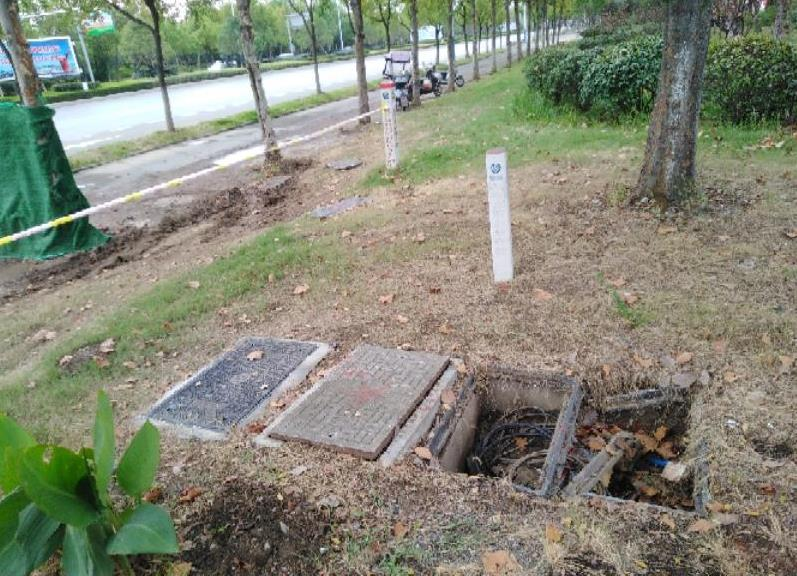well: (136, 335, 471, 467)
